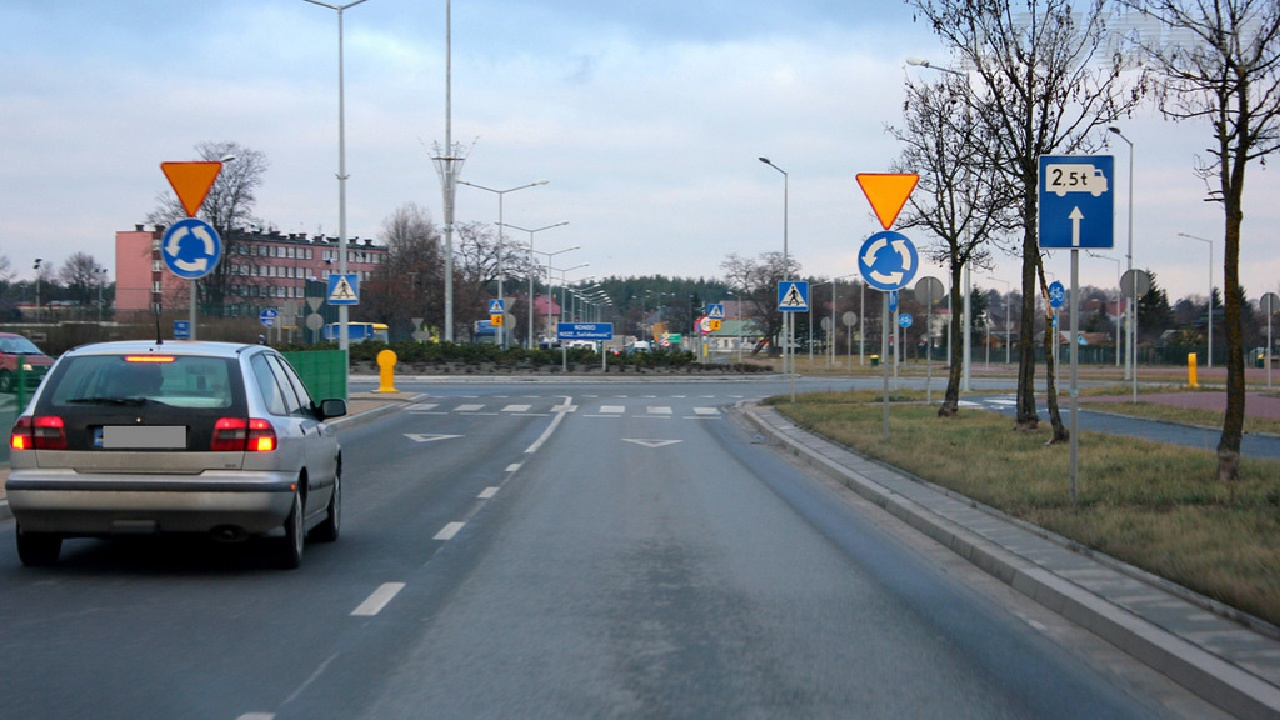A7: (855, 172, 920, 231), (160, 161, 222, 218)
C12: (161, 219, 222, 281), (858, 231, 919, 291)
D6: (327, 274, 359, 305), (778, 281, 808, 312)
